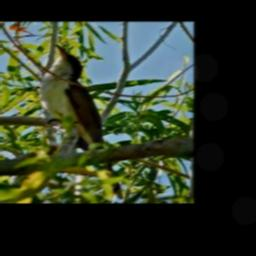Cuckoo: (40, 45, 123, 199)
